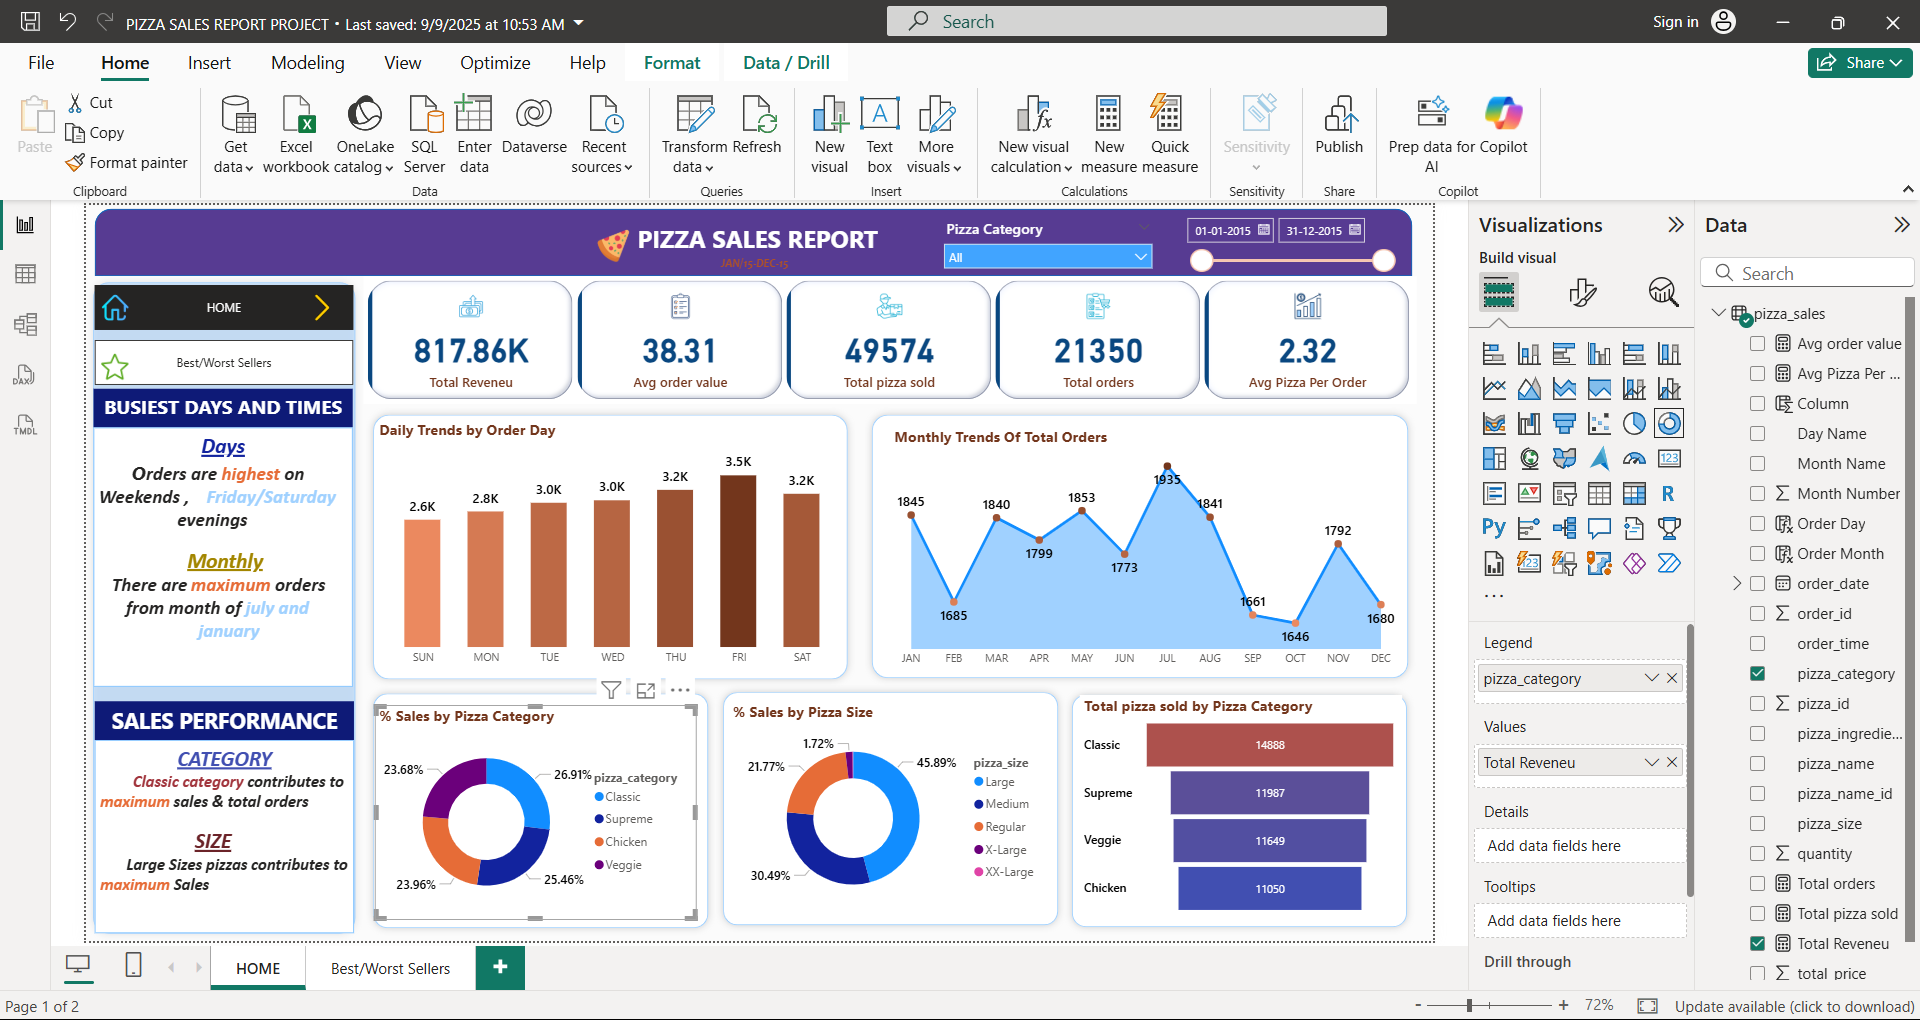

What the dashboard file says about the page in this screenshot:
{"tool":"powerbi","page":{"name":"HOME","canvas":[1500,820],"ordinal":0},"visuals":[{"type":"cardVisual","fields":{"Data":["pizza_sales.Total Reveneu","pizza_sales.Avg order value","pizza_sales.Total pizza sold","pizza_sales.Total orders","pizza_sales.Avg Pizza Per Order"]},"box":[308.8,78.8,1173.8,142.5],"z":0},{"type":"shape","box":[9.5,3.6,1467.9,75],"z":1000},{"type":"textbox","box":[551.2,13.8,393.8,55],"z":2000},{"type":"textbox","box":[701.2,50,97.5,28.8],"z":3000},{"type":"image","box":[551.2,22.5,72.5,46.2],"z":4000},{"type":"shape","box":[312.2,225.7,544.6,310.8],"z":5000},{"type":"columnChart","title":"Daily Trends by Order Day","fields":{"Category":["pizza_sales.Order Day"],"Y":["pizza_sales.Total orders"]},"box":[321.4,238.1,531,284.5],"z":6000},{"type":"shape","box":[867.6,225.7,613.5,309.5],"z":7000},{"type":"shape","box":[311.9,535.7,389.3,277.4],"z":8000},{"type":"shape","box":[701.4,535.1,389.2,275.7],"z":9000},{"type":"shape","box":[1090.5,538.1,389.3,275],"z":10000},{"type":"donutChart","title":"% Sales  by Pizza Category","fields":{"Category":["pizza_sales.pizza_category"],"Y":["pizza_sales.Total Reveneu"]},"box":[321.6,556.8,358.1,239.2],"z":11000},{"type":"shape","box":[0,78.4,308.1,741.9],"z":12000},{"type":"donutChart","title":"% Sales  by Pizza Size","fields":{"Y":["pizza_sales.Total Reveneu"],"Series":["pizza_sales.pizza_size"]},"box":[716.2,552.7,358.1,239.2],"z":13000},{"type":"textbox","box":[8.1,204.1,289.2,43.2],"z":14000},{"type":"funnel","title":"Total pizza sold by Pizza Category","fields":{"Category":["pizza_sales.pizza_category"],"Y":["pizza_sales.Total pizza sold"]},"box":[1106.8,545.9,359.5,250],"z":15000},{"type":"textbox","box":[8.1,247.3,289.2,289.2],"z":16000},{"type":"textbox","box":[9.5,552.7,289.2,43.2],"z":17000},{"type":"textbox","box":[9.5,595.9,289.2,214.9],"z":18000},{"type":"areaChart","title":"Monthly Trends Of Total Orders","fields":{"Category":["pizza_sales.Order Month"],"Y":["pizza_sales.Total orders"]},"box":[895.2,246.4,571.4,277.4],"z":19000},{"type":"slicer","fields":{"Values":["pizza_sales.pizza_category"]},"box":[945.2,9.5,252.4,64.3],"z":20000},{"type":"slicer","fields":{"Values":["pizza_sales.order_date"]},"box":[1214.3,3.6,252.4,75],"z":21000},{"type":"pageNavigator","box":[9.5,89.3,288.1,50],"z":22000},{"type":"pageNavigator","box":[9.5,150,288.1,50],"z":23000},{"type":"image","box":[228.6,95.2,69,39.3],"z":24000},{"type":"image","box":[9.5,95.2,45.2,39.3],"z":25000},{"type":"image","box":[9.5,159.5,45.2,40.5],"z":26000}]}

Visuals, with their boxes on the page's 1500x820 design canvas (x1, y1, x2, y2). These are canvas units, not pixel positions in the 1920x1020 screenshot, which may show the page scaled, cropped or inside an application window:
cardVisual - pizza_sales.Total Reveneu x pizza_sales.Avg order value: {"x1": 309, "y1": 79, "x2": 1483, "y2": 221}
shape: {"x1": 10, "y1": 4, "x2": 1477, "y2": 79}
textbox: {"x1": 551, "y1": 14, "x2": 945, "y2": 69}
textbox: {"x1": 701, "y1": 50, "x2": 799, "y2": 79}
image: {"x1": 551, "y1": 22, "x2": 624, "y2": 69}
shape: {"x1": 312, "y1": 226, "x2": 857, "y2": 536}
"Daily Trends by Order Day" columnChart: {"x1": 321, "y1": 238, "x2": 852, "y2": 523}
shape: {"x1": 868, "y1": 226, "x2": 1481, "y2": 535}
shape: {"x1": 312, "y1": 536, "x2": 701, "y2": 813}
shape: {"x1": 701, "y1": 535, "x2": 1091, "y2": 811}
shape: {"x1": 1090, "y1": 538, "x2": 1480, "y2": 813}
"% Sales  by Pizza Category" donutChart: {"x1": 322, "y1": 557, "x2": 680, "y2": 796}
shape: {"x1": 0, "y1": 78, "x2": 308, "y2": 820}
"% Sales  by Pizza Size" donutChart: {"x1": 716, "y1": 553, "x2": 1074, "y2": 792}
textbox: {"x1": 8, "y1": 204, "x2": 297, "y2": 247}
"Total pizza sold by Pizza Category" funnel: {"x1": 1107, "y1": 546, "x2": 1466, "y2": 796}
textbox: {"x1": 8, "y1": 247, "x2": 297, "y2": 536}
textbox: {"x1": 10, "y1": 553, "x2": 299, "y2": 596}
textbox: {"x1": 10, "y1": 596, "x2": 299, "y2": 811}
"Monthly Trends Of Total Orders" areaChart: {"x1": 895, "y1": 246, "x2": 1467, "y2": 524}
slicer - pizza_sales.pizza_category: {"x1": 945, "y1": 10, "x2": 1198, "y2": 74}
slicer - pizza_sales.order_date: {"x1": 1214, "y1": 4, "x2": 1467, "y2": 79}
pageNavigator: {"x1": 10, "y1": 89, "x2": 298, "y2": 139}
pageNavigator: {"x1": 10, "y1": 150, "x2": 298, "y2": 200}
image: {"x1": 229, "y1": 95, "x2": 298, "y2": 134}
image: {"x1": 10, "y1": 95, "x2": 55, "y2": 134}
image: {"x1": 10, "y1": 160, "x2": 55, "y2": 200}
